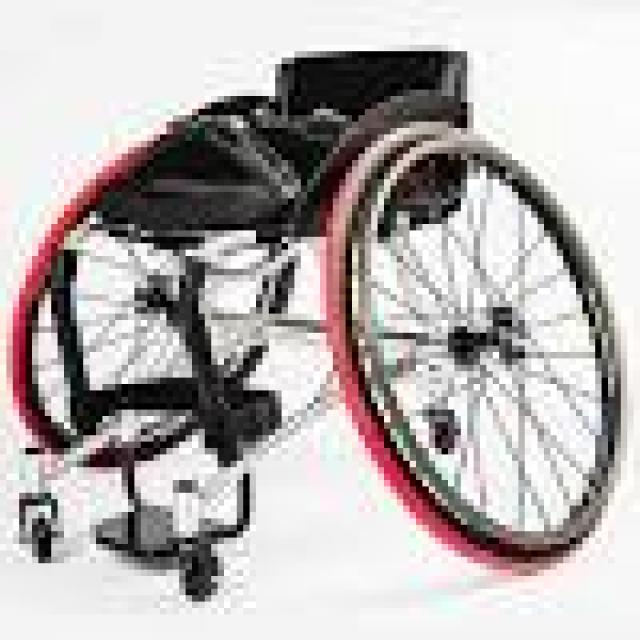wheelchairs: (6, 32, 628, 621)
